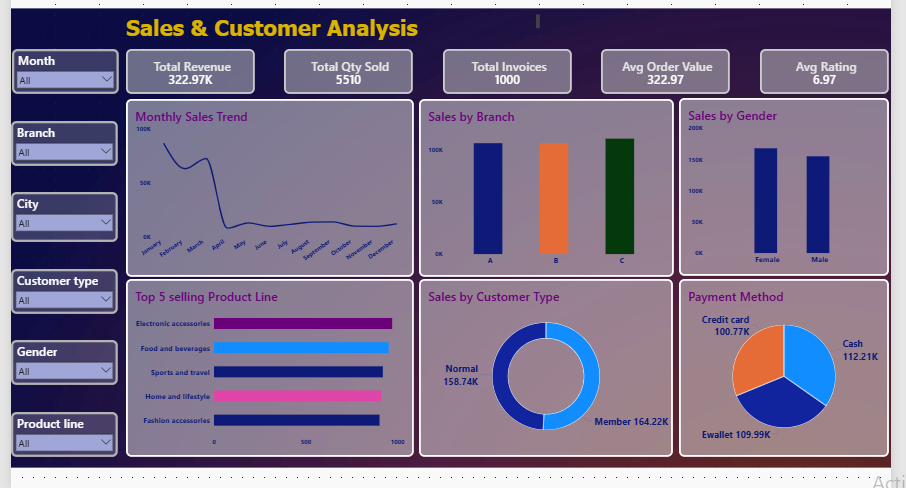

The page's visual inventory and layout, read from the dashboard file:
{"tool":"powerbi","page":{"name":"Page 1","canvas":[1920,1080],"ordinal":0},"visuals":[{"type":"card","title":"Total  Revenue","fields":{"Values":["Sum(Sheet1.Total)"]},"box":[250.9,122.2,281.5,98.2],"z":0},{"type":"card","title":"Total Qty Sold","fields":{"Values":["Sum(Sheet1.Quantity)"]},"box":[596.7,122.2,281.5,98.2],"z":1000},{"type":"textbox","box":[235.6,32.7,933.8,89.5],"z":2000},{"type":"card","title":"Total Invoices","fields":{"Values":["CountNonNull(Sheet1.Invoice ID)"]},"box":[942.5,122.2,281.5,98.2],"z":3000},{"type":"card","title":"Avg Order Value","fields":{"Values":["Measure.Avg_order_value"]},"box":[1288.4,122.2,281.5,98.2],"z":4000},{"type":"card","title":"Avg Rating","fields":{"Values":["Avg(Sheet1.Rating)"]},"box":[1634.2,122.2,281.5,98.2],"z":5000},{"type":"lineChart","title":"Monthly Sales Trend","fields":{"Category":["Sheet1.Date.Variation.Date Hierarchy.Month"],"Y":["Sum(Sheet1.Total)"]},"box":[250.9,231.3,628.4,388.4],"z":6000},{"type":"clusteredColumnChart","title":" Sales by Branch","fields":{"Category":["Sheet1.Branch"],"Y":["Sum(Sheet1.Total)"]},"box":[890.2,231.3,556.4,388.4],"z":7000},{"type":"donutChart","title":"Sales by Customer Type","fields":{"Category":["Sheet1.Customer type"],"Y":["Sum(Sheet1.Total)"]},"box":[891.3,624,554.2,388.4],"z":8000},{"type":"pieChart","title":"Payment Method","fields":{"Category":["Sheet1.Payment"],"Y":["Sum(Sheet1.Total)"]},"box":[1457.5,624,458.2,388.4],"z":9000},{"type":"clusteredColumnChart","title":"Sales by Gender","fields":{"Category":["Sheet1.Gender"],"Y":["Sum(Sheet1.Total)"]},"box":[1457.5,229.1,458.2,388.4],"z":10000},{"type":"slicer","fields":{"Values":["Sheet1.Date.Variation.Date Hierarchy.Month"]},"box":[2.2,122.2,233.5,98.2],"z":11000},{"type":"slicer","fields":{"Values":["Sheet1.Branch"]},"box":[0,278.4,233.5,98.2],"z":12000},{"type":"slicer","fields":{"Values":["Sheet1.City"]},"box":[0,434.6,233.5,109.1],"z":13000},{"type":"slicer","fields":{"Values":["Sheet1.Customer type"]},"box":[0,601.7,233.5,98.2],"z":14000},{"type":"slicer","fields":{"Values":["Sheet1.Gender"]},"box":[0,758,233.5,98.2],"z":15000},{"type":"slicer","fields":{"Values":["Sheet1.Product line"]},"box":[0,914.2,233.5,98.2],"z":16000},{"type":"clusteredBarChart","title":"Top 5 selling Product Line","fields":{"Category":["Sheet1.Product line"],"Y":["Sum(Sheet1.Quantity)"]},"box":[250.9,624,628.4,388.4],"z":17000}]}

Visuals, with their boxes in screenshot pixels (x1, y1, x2, y2):
"Total  Revenue" card: 121/47/251/92
"Total Qty Sold" card: 281/47/411/92
textbox: 114/6/545/47
"Total Invoices" card: 440/47/571/92
"Avg Order Value" card: 600/47/731/92
"Avg Rating" card: 760/47/890/92
"Monthly Sales Trend" lineChart: 121/98/411/277
" Sales by Branch" clusteredColumnChart: 416/98/674/277
"Sales by Customer Type" donutChart: 417/279/673/459
"Payment Method" pieChart: 679/279/890/459
"Sales by Gender" clusteredColumnChart: 679/96/890/276
slicer - Sheet1.Date.Variation.Date Hierarchy.Month: 6/47/114/92
slicer - Sheet1.Branch: 5/119/113/165
slicer - Sheet1.City: 5/191/113/242
slicer - Sheet1.Customer type: 5/269/113/314
slicer - Sheet1.Gender: 5/341/113/386
slicer - Sheet1.Product line: 5/413/113/459
"Top 5 selling Product Line" clusteredBarChart: 121/279/411/459
